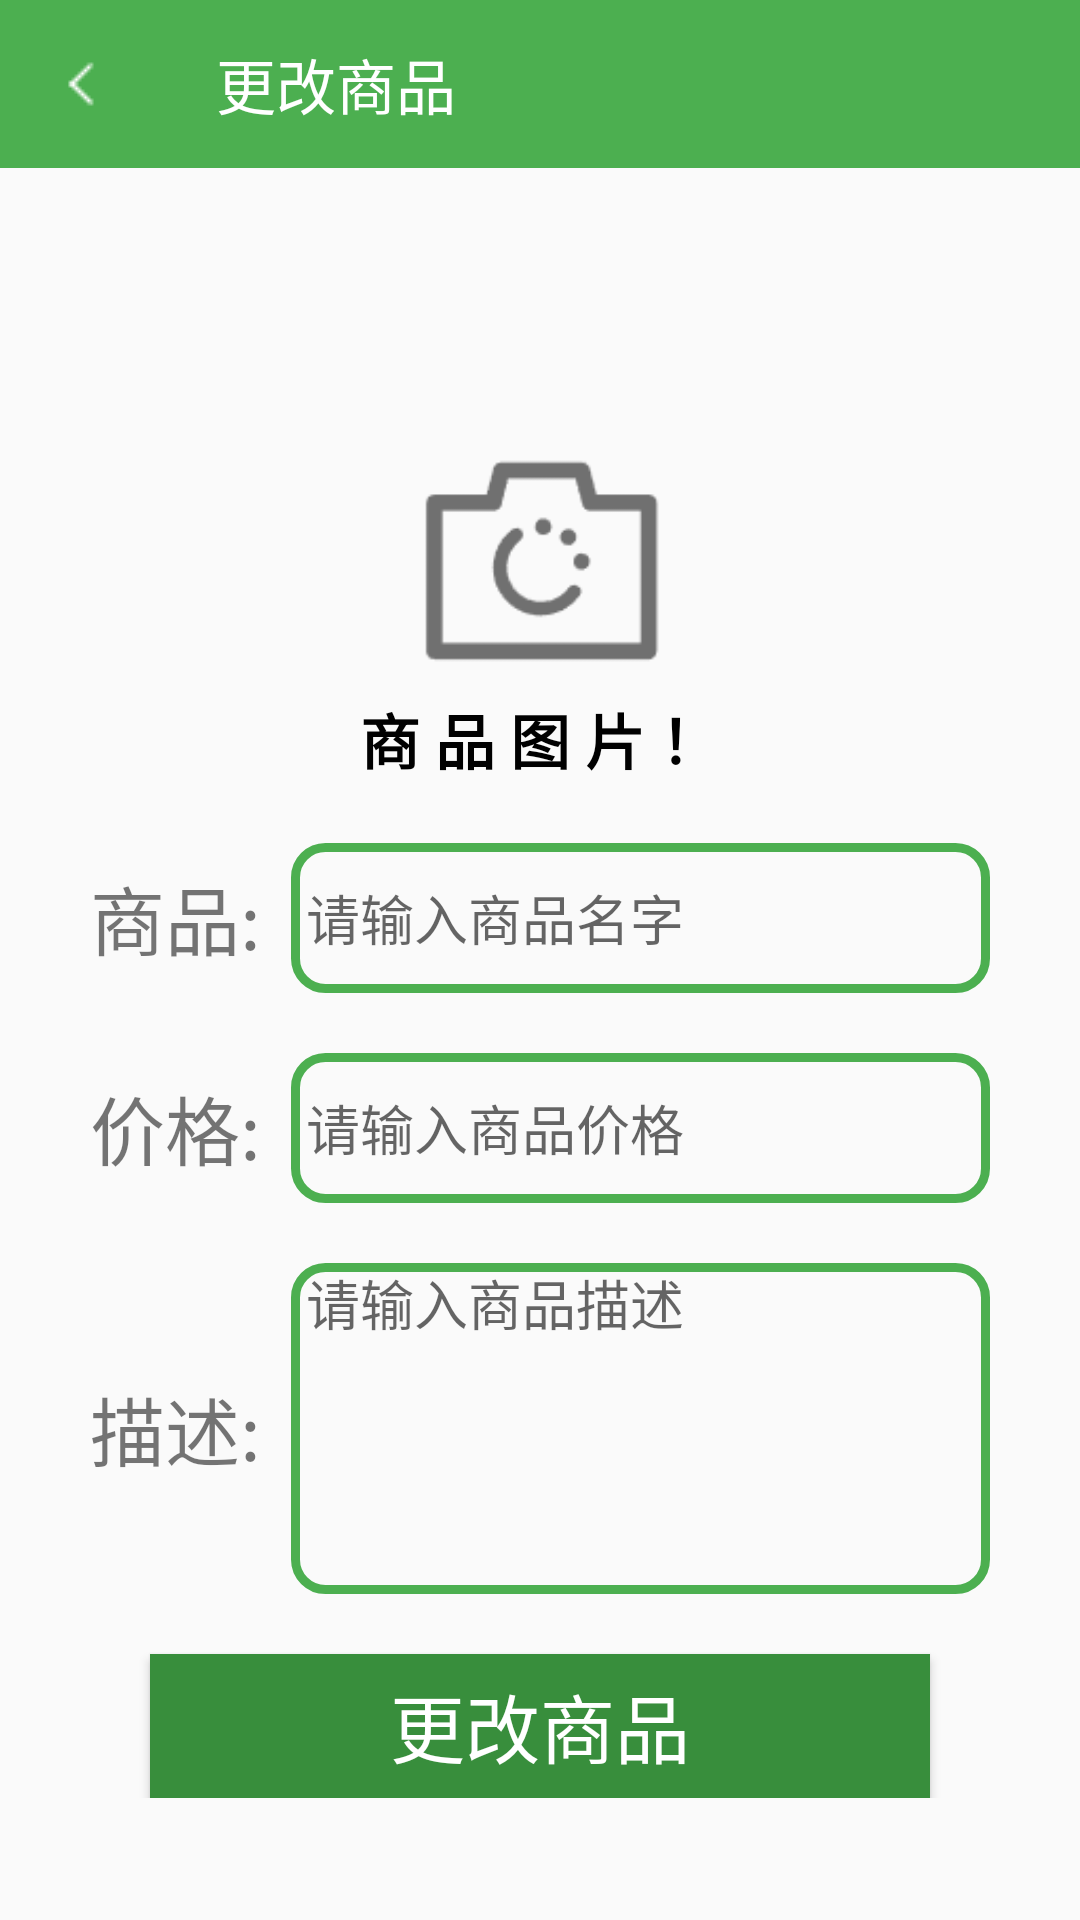

Where to tap for icons on this 1080 × 1920 app screen, as (x=x, y=y):
upimg: (x=541, y=560)
